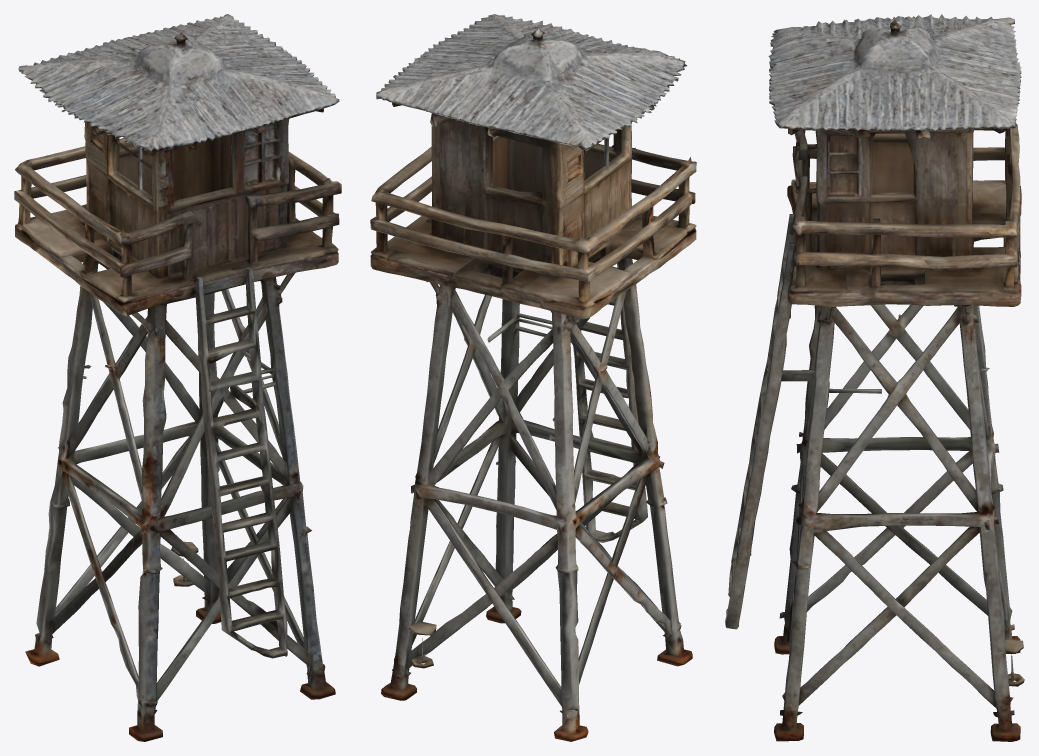
File: watchtower.fbx
The picture shows the model from 3 angles, left to right: view 1: azimuth 30°, elevation 25°; view 2: azimuth 150°, elevation 25°; view 3: azimuth 270°, elevation 25°; orthographic projection. The views are drawn at different scales.
Visible parts, largest first — view 1: watchtower; view 2: watchtower; view 3: watchtower.
Part boxes in pixels (<box>): watchtower: <box>14,14,341,741</box>; watchtower: <box>370,14,696,741</box>; watchtower: <box>725,14,1024,741</box>.
Bounding box in the file's own units: 3.71 × 10 × 4.04.
1 material, 1 textured.
